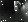person: (22, 2, 28, 17), (16, 3, 22, 14)
